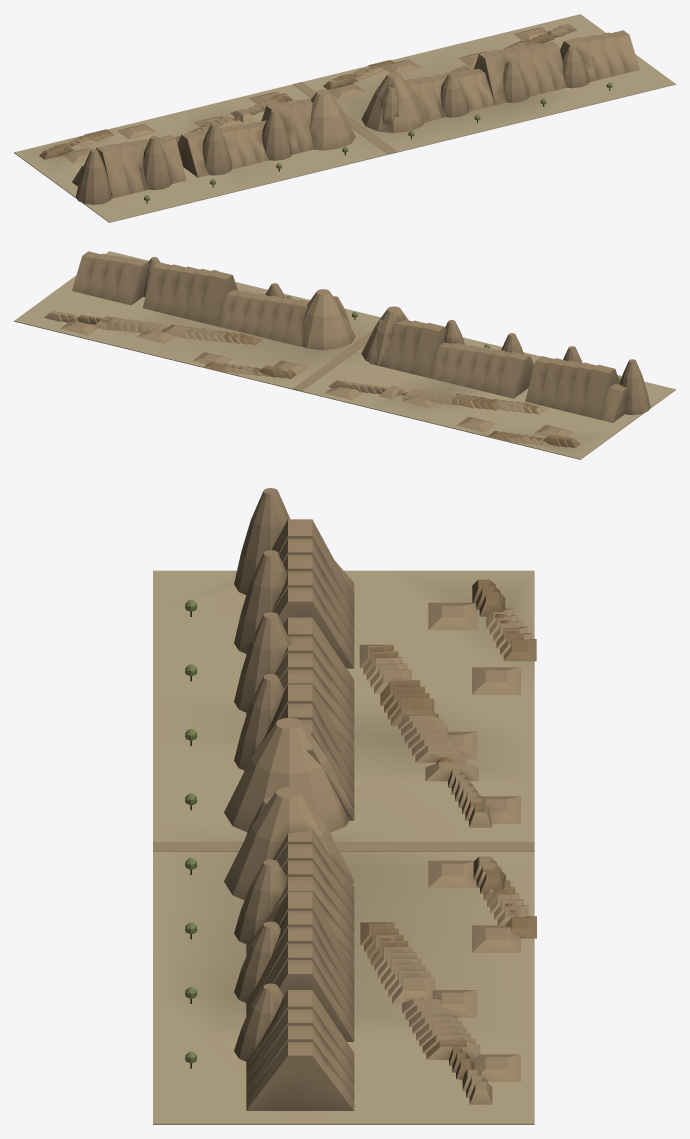
Rendered from gyaur-kala-walls-ruin.glb.
3 renders of one model, top to bottom at view 1: azimuth 30°, elevation 25°; view 2: azimuth 150°, elevation 25°; view 3: azimuth 270°, elevation 25°, orthographic. The views are drawn at different scales.
Parts seen in each view (by area): view 1: p1_ruins, p0_ground; view 2: p1_ruins, p0_ground; view 3: p0_ground, p1_ruins.
Boxes of the visible parts, x1,y1,x2,y2 form: p1_ruins: [39, 23, 639, 204]; p0_ground: [14, 14, 675, 222]; p1_ruins: [44, 251, 650, 448]; p0_ground: [14, 251, 675, 459]; p0_ground: [153, 570, 534, 1124]; p1_ruins: [153, 488, 536, 1110].
Size of the model in its own units: 241 by 19.16 by 70.43.
